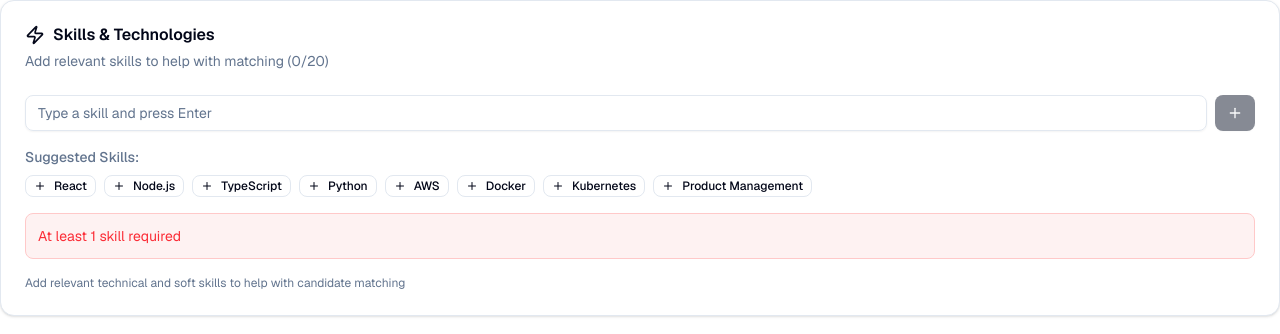
Test case: SkillsSelector › disables add button when input is empty
Expected: the button is disabled, [1215,95,1255,131]
Type "React" into the field with placeholder "Type a skill and press Enter".
click(616, 113); type("React")  # box [25,95,1207,131]
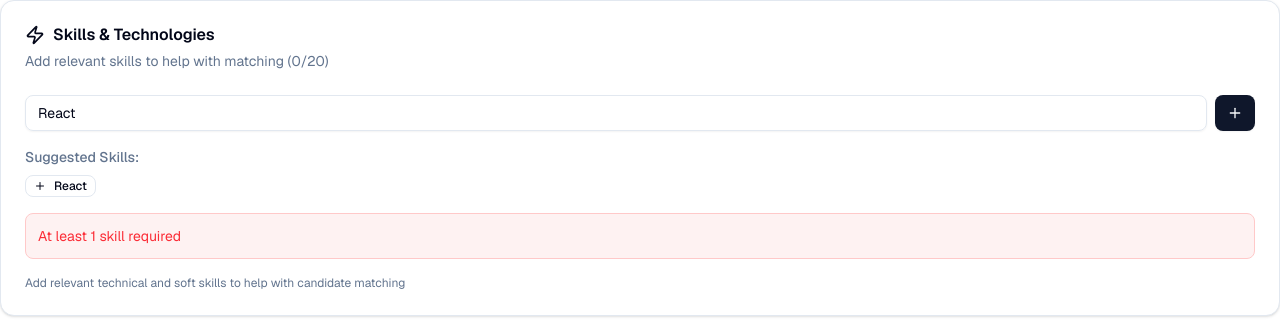
Result: the button is enabled at [1215,95,1255,131]
